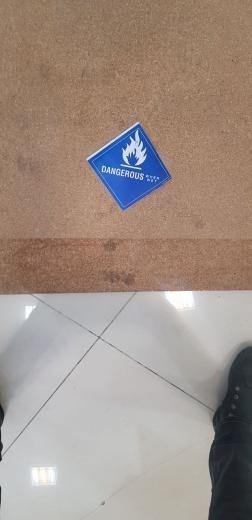dangerous-when-wet: (88, 121, 172, 210)
